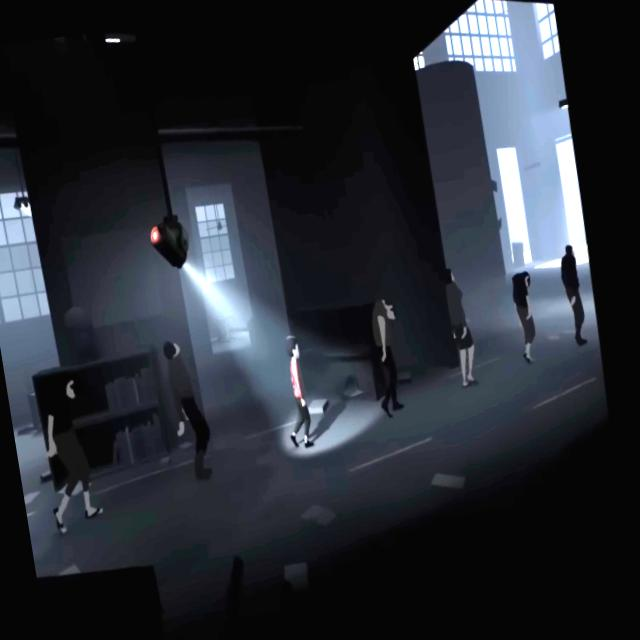boy: (274, 335, 314, 449)
zombie: (34, 372, 108, 536), (162, 337, 218, 482), (366, 296, 414, 419), (441, 266, 481, 388), (556, 244, 590, 348), (509, 270, 543, 364)
